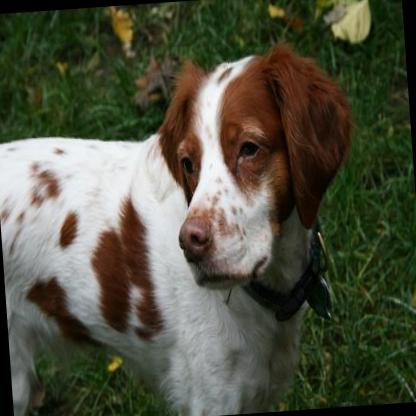Brittany_spaniel: (0, 35, 370, 416)
